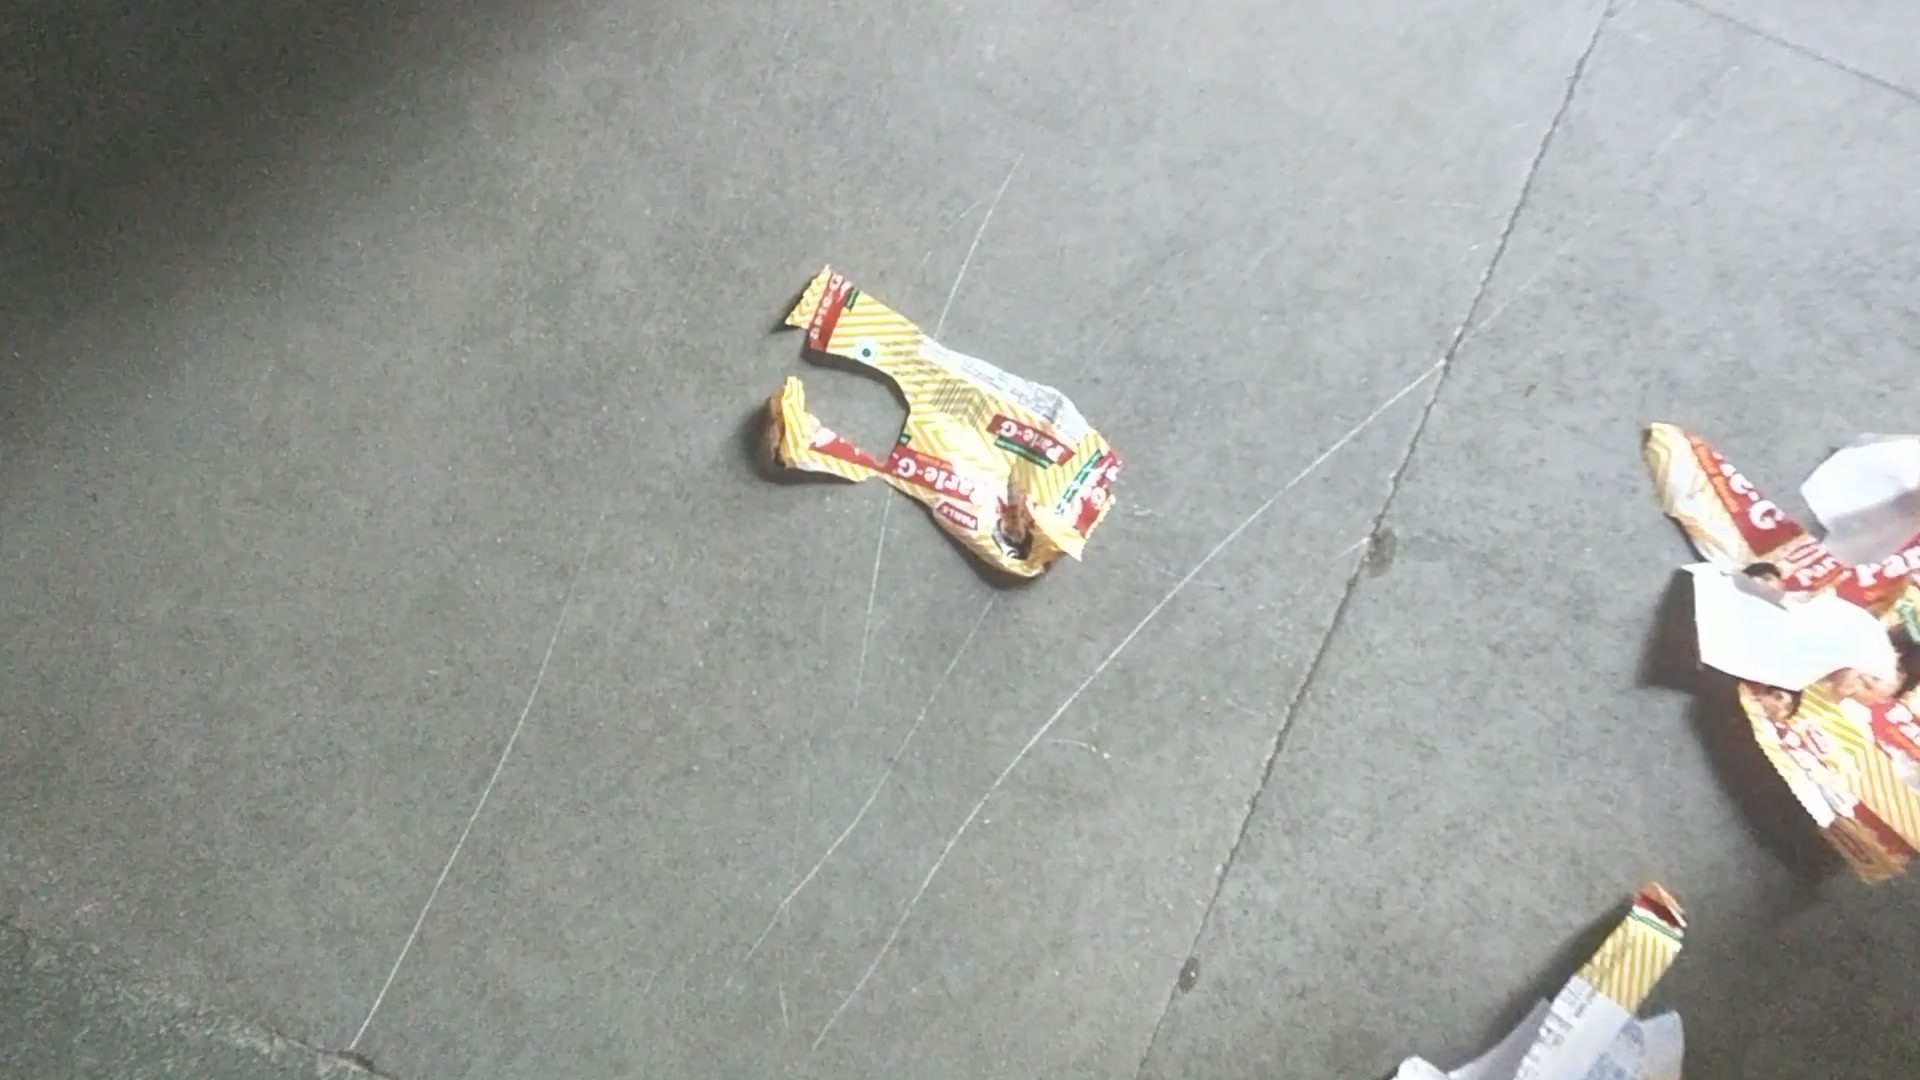parle-g: (1693, 463, 1920, 841)
parle-g-b: (807, 290, 1080, 541), (1542, 914, 1680, 1080)
